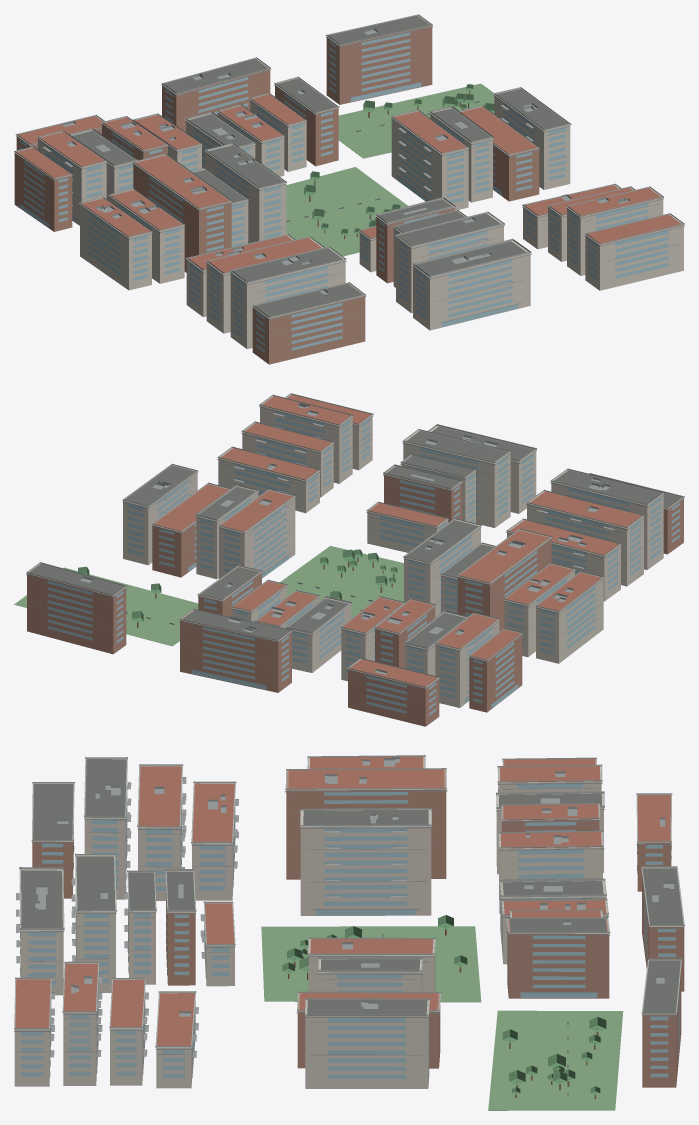
File: tile-p002-m003.glb
3 views of the same model, one above another, from view 1: azimuth 30°, elevation 25°; view 2: azimuth 150°, elevation 25°; view 3: azimuth 270°, elevation 25° (orthographic). The views are drawn at different scales.
Parts seen in each view (by area): view 1: neighborhood-park-block-285-mesh-0, building-1206-mesh-221, building-1040-mesh-10, building-1123-mesh-107, neighborhood-park-block-304-mesh-5, building-1200-mesh-190, building-1046-mesh-51, building-1201-mesh-196, building-1044-mesh-37, building-1041-mesh-16, building-1136-mesh-164, building-1049-mesh-69 (+70 smaller); view 2: building-1206-mesh-221, building-1136-mesh-164, neighborhood-park-block-285-mesh-0, building-1054-mesh-101, neighborhood-park-block-304-mesh-5, building-1044-mesh-37, building-1201-mesh-196, building-1046-mesh-51, building-1124-mesh-114, building-1049-mesh-69, building-1042-mesh-23, building-1204-mesh-214 (+76 smaller); view 3: neighborhood-park-block-304-mesh-5, building-1048-mesh-62, neighborhood-park-block-285-mesh-0, building-1204-mesh-214, building-1131-mesh-158, building-1046-mesh-51, building-1048-mesh-63, building-1204-mesh-215, building-1046-mesh-54, building-1206-mesh-221, building-1042-mesh-27, building-1053-mesh-94 (+75 smaller).
Part boxes in pixels (x1,y1,x2,y2): neighborhood-park-block-285-mesh-0: (286,167,407,256); building-1206-mesh-221: (326,16,432,104); building-1040-mesh-10: (252,284,365,364); building-1123-mesh-107: (413,241,530,330); neighborhood-park-block-304-mesh-5: (338,83,494,158); building-1200-mesh-190: (585,214,683,290); building-1046-mesh-51: (133,155,231,272); building-1201-mesh-196: (391,114,468,210); building-1044-mesh-37: (80,204,151,290); building-1041-mesh-16: (230,248,345,349); building-1136-mesh-164: (162,59,270,131); building-1049-mesh-69: (14,153,72,231); building-1206-mesh-221: (27,564,126,654); building-1136-mesh-164: (180,610,291,692); neighborhood-park-block-285-mesh-0: (280,546,403,618); building-1054-mesh-101: (348,660,439,726); neighborhood-park-block-304-mesh-5: (14,567,198,646); building-1044-mesh-37: (536,578,603,663); building-1201-mesh-196: (219,492,295,578); building-1046-mesh-51: (457,530,551,631); building-1124-mesh-114: (403,430,510,527); building-1049-mesh-69: (469,634,522,712); building-1042-mesh-23: (527,491,643,586); building-1204-mesh-214: (123,472,197,565); neighborhood-park-block-304-mesh-5: (488,1010,623,1110); building-1048-mesh-62: (300,810,431,915); neighborhood-park-block-285-mesh-0: (261,926,481,1002); building-1204-mesh-214: (305,1000,429,1088); building-1131-mesh-158: (507,919,609,998); building-1046-mesh-51: (286,770,446,879); building-1048-mesh-63: (316,828,415,915); building-1204-mesh-215: (327,1013,429,1078); building-1046-mesh-54: (288,769,443,788); building-1206-mesh-221: (642,968,681,1087); building-1042-mesh-27: (138,766,181,826); building-1053-mesh-94: (499,832,602,913).
Size of the model in its own units: 255 by 38.33 by 250.
